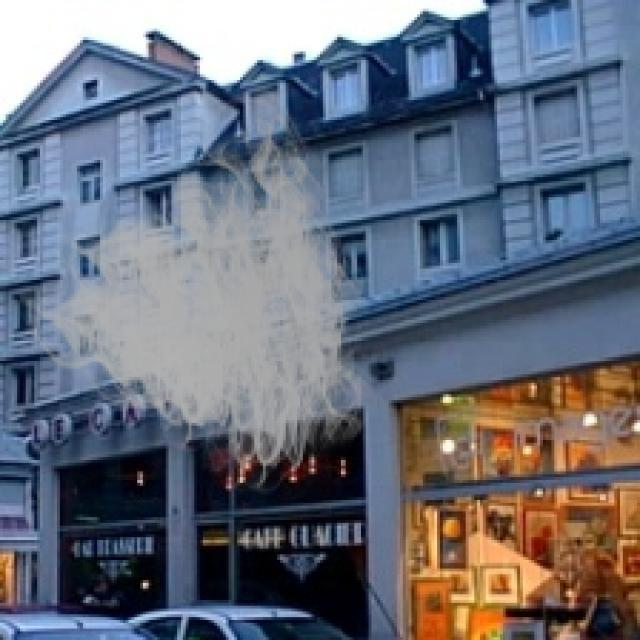Smoke: (20, 80, 386, 506)
